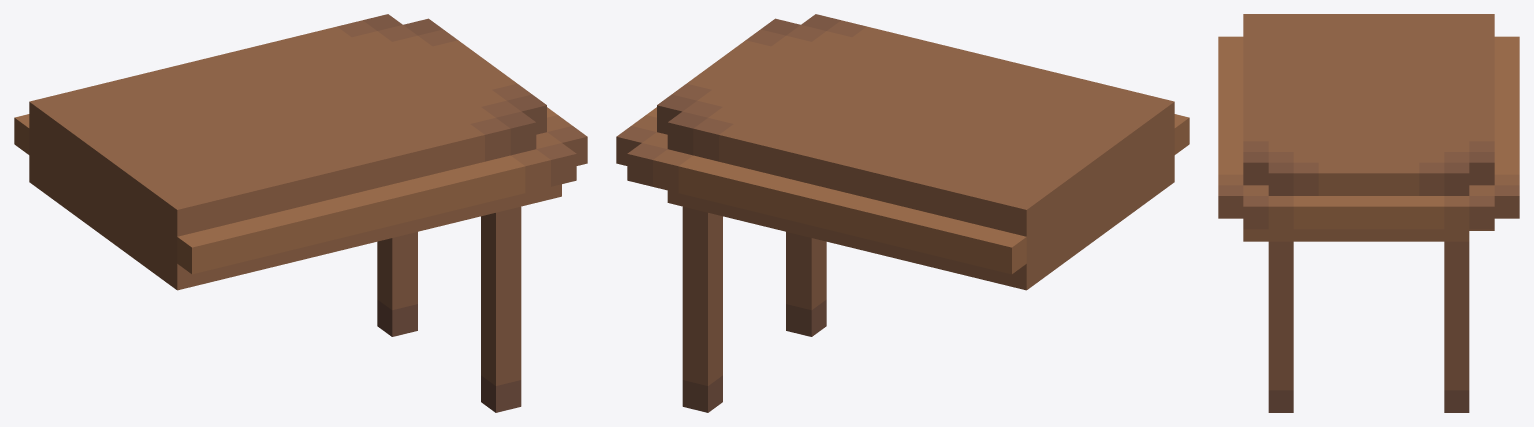
File: Interior_Furniture-35.obj
3 renders of one model, left to right at view 1: azimuth 30°, elevation 25°; view 2: azimuth 150°, elevation 25°; view 3: azimuth 270°, elevation 25°, orthographic. The views are drawn at different scales.
Size of the model in its own units: 1.6 by 1.1 by 1.2.
1 material, 1 textured.
